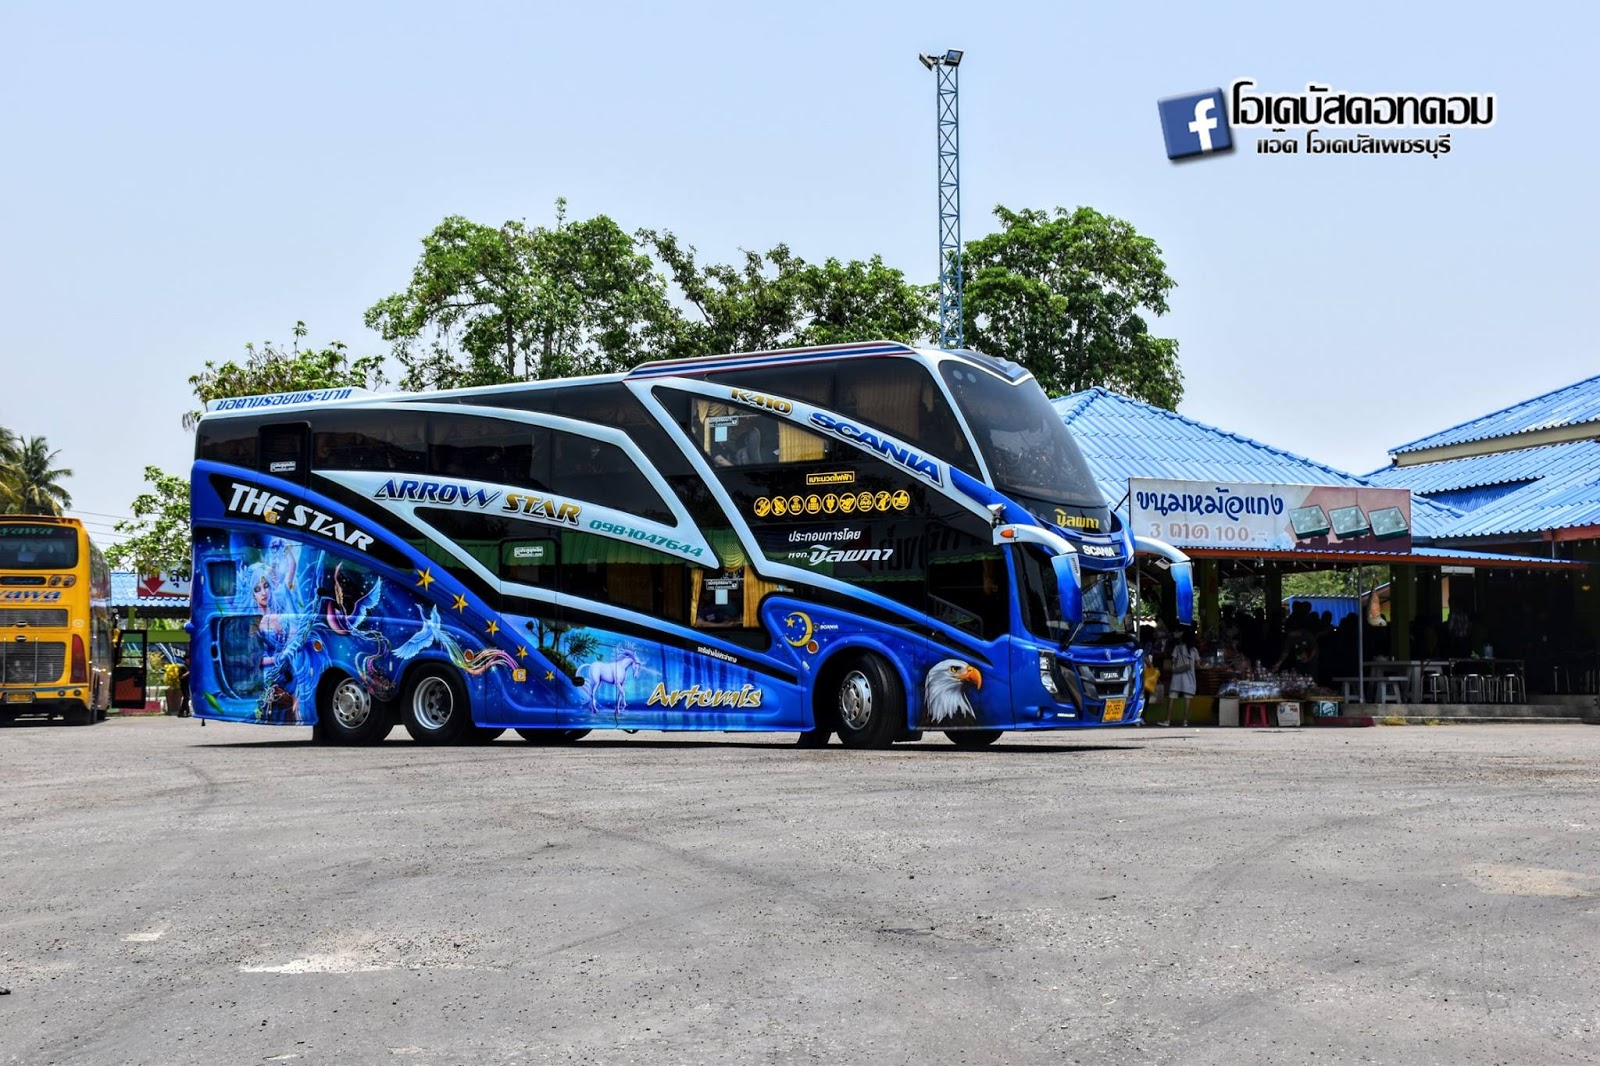bus: (181, 343, 1147, 746)
